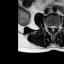CCS_normal: (51, 23, 53, 34)
LFS_normal: (56, 23, 58, 30)
LLS_normal: (53, 23, 56, 31)
RFS_stenosis: (47, 23, 49, 30)
RLS_normal: (49, 23, 51, 30)
